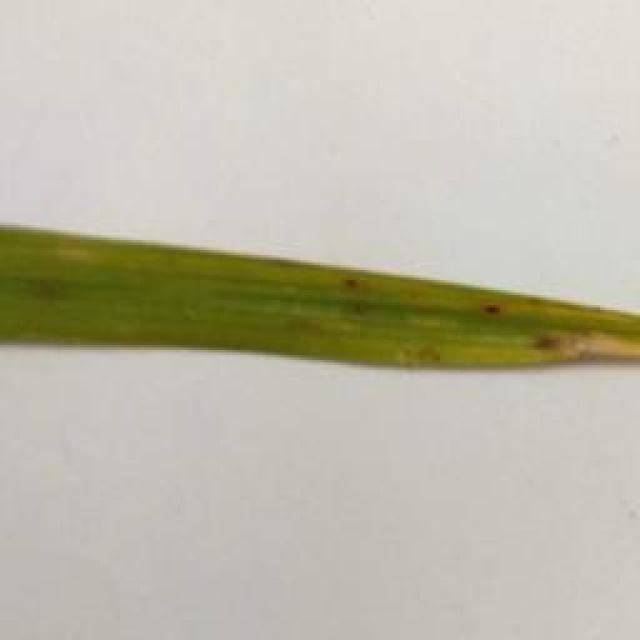Bacterial_Blight: (530, 332, 640, 373)
Brown_Spot: (471, 292, 505, 321), (339, 272, 363, 296)
